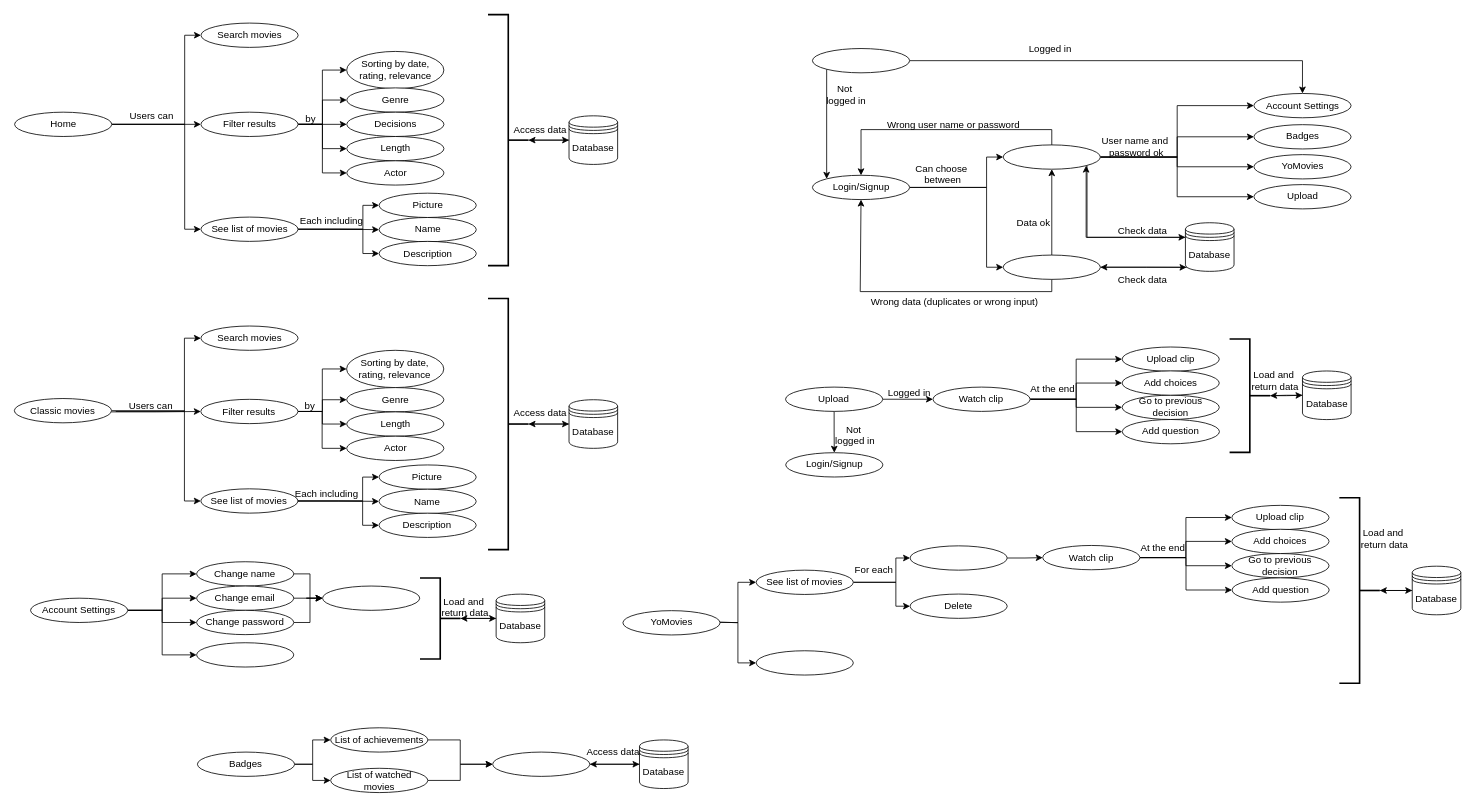
Image size: 1475x807. Some labels were removed from this diagram. The shapes that lost their labels are listed below. From the top down, each one's box as (x1, y1, x2, y2) in pixels, then its label:
(812, 48, 910, 73): Profile
(1002, 144, 1100, 169): LogIn
(1002, 254, 1100, 279): Register
(909, 545, 1007, 570): Edit
(322, 585, 420, 610): Save changes
(196, 642, 294, 667): Delete account
(755, 650, 853, 675): Search
(492, 751, 590, 776): See details
